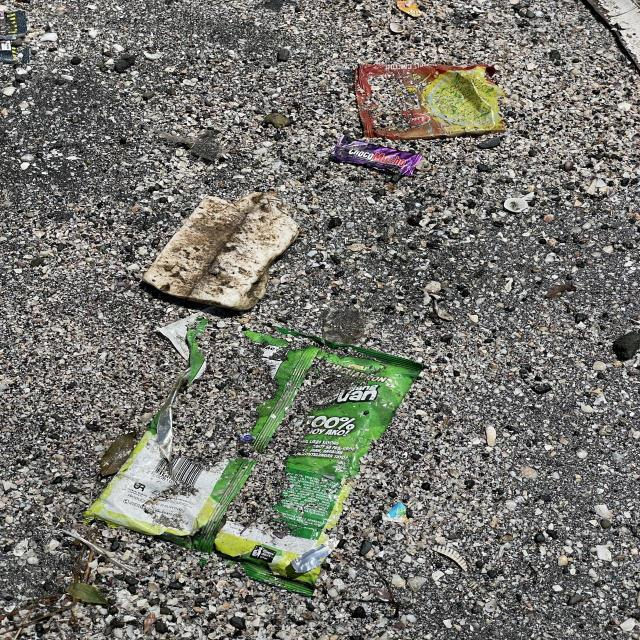litter: (83, 314, 427, 594), (353, 66, 504, 144), (330, 137, 426, 175), (0, 5, 28, 63)
